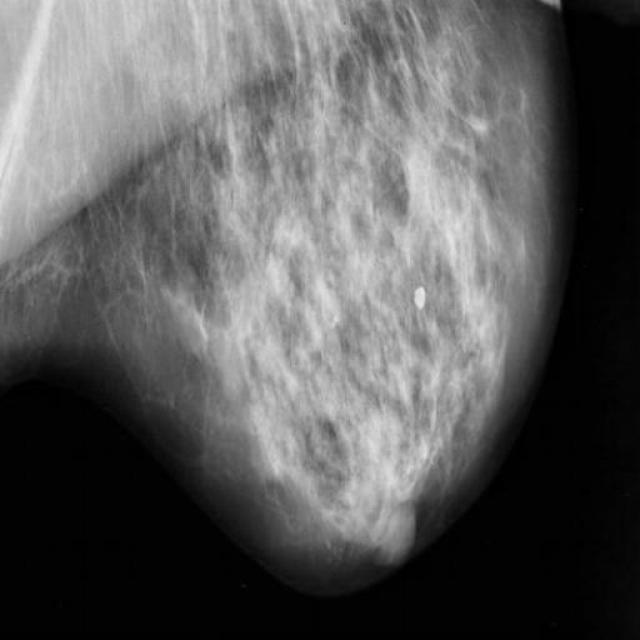cancer: (280, 292, 338, 383)
